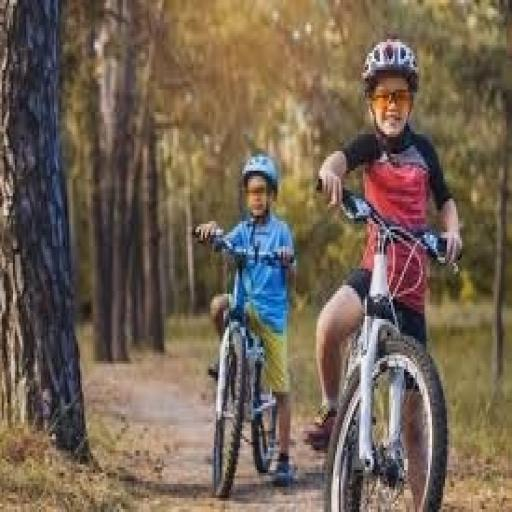cycling: (304, 36, 466, 510), (192, 148, 302, 492)
